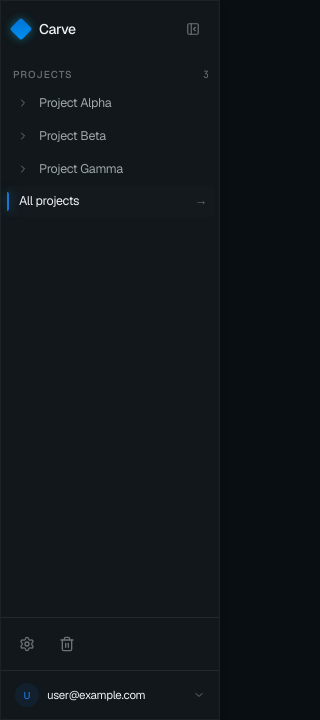
Test case: LeftNav — project→tasks tree (v3.1 Issue 5) › expanding project A reveals its 2 tasks nested below
Check: the list item with test id "leftnav-project-A" is shown, box [15,94,111,111]
Click the button with test id "leftnav-project-toggle-A".
click(23, 103)  # box [15,95,31,111]
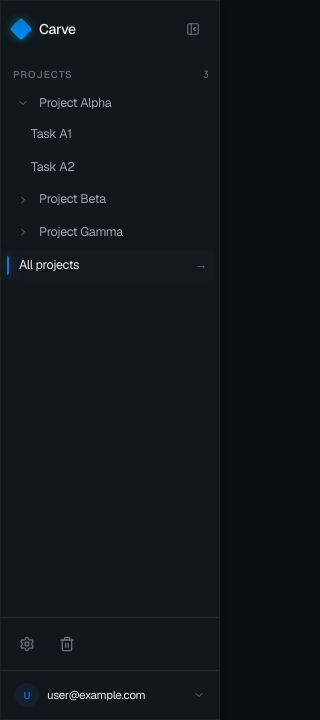
Check: the text "Task A1" is shown, box [31,125,72,142]
Check: the text "Task A2" is shown, box [31,158,75,174]
